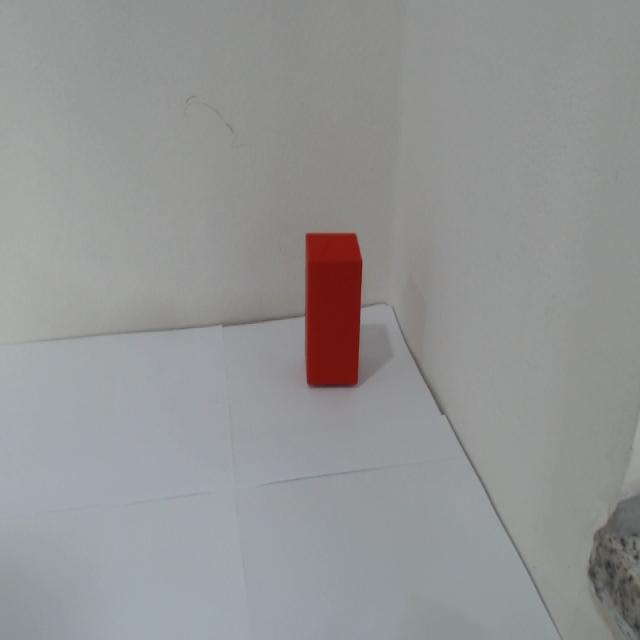cube: (303, 230, 363, 388)
